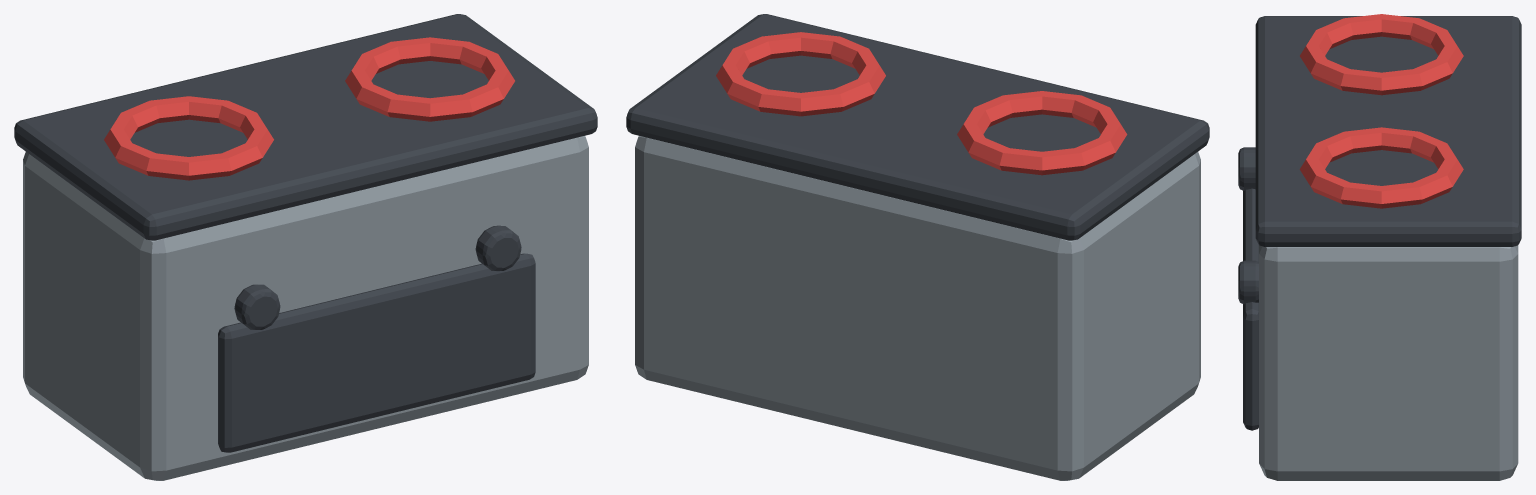
File: Stove.fbx
The picture shows the model from 3 angles, left to right: view 1: azimuth 30°, elevation 25°; view 2: azimuth 150°, elevation 25°; view 3: azimuth 270°, elevation 25°; orthographic projection. The views are drawn at different scales.
Visible parts, largest first — view 1: Body, Top.001, OvenDoor, Burner_0.58, Burner_-0.58, Knob_-0.58, Knob_0.58; view 2: Body, Top.001, Burner_-0.58, Burner_0.58; view 3: Body, Top.001, Burner_0.58, Burner_-0.58, OvenDoor, Knob_0.58, Knob_-0.58.
Boxes of the visible parts, bbox=[...] form: Body: bbox=[23, 136, 588, 480]; Top.001: bbox=[14, 14, 597, 240]; OvenDoor: bbox=[218, 253, 535, 452]; Burner_0.58: bbox=[345, 37, 514, 121]; Burner_-0.58: bbox=[104, 96, 273, 180]; Knob_-0.58: bbox=[234, 284, 280, 329]; Knob_0.58: bbox=[475, 225, 521, 271]; Body: bbox=[635, 136, 1200, 480]; Top.001: bbox=[626, 14, 1209, 240]; Burner_-0.58: bbox=[957, 91, 1127, 175]; Burner_0.58: bbox=[716, 32, 885, 116]; Body: bbox=[1259, 245, 1518, 480]; Top.001: bbox=[1255, 16, 1521, 246]; Burner_0.58: bbox=[1299, 127, 1463, 208]; Burner_-0.58: bbox=[1300, 14, 1463, 95]; OvenDoor: bbox=[1243, 188, 1258, 430]; Knob_0.58: bbox=[1238, 260, 1258, 304]; Knob_-0.58: bbox=[1238, 147, 1255, 190].
Bounding box in the file's own units: 2.18 × 1.34 × 1.23.
